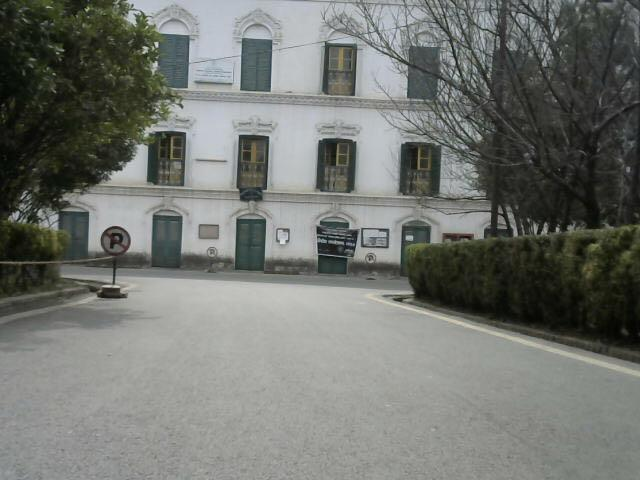Building: (136, 3, 461, 292)
Road: (0, 268, 640, 480)
Traffic sign: (101, 220, 140, 300), (356, 247, 395, 285)
Tree: (370, 16, 640, 198), (4, 0, 153, 221)
